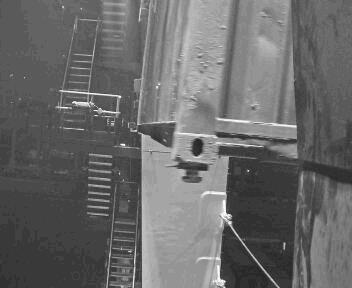twist_lock_1: (156, 155, 198, 186)
